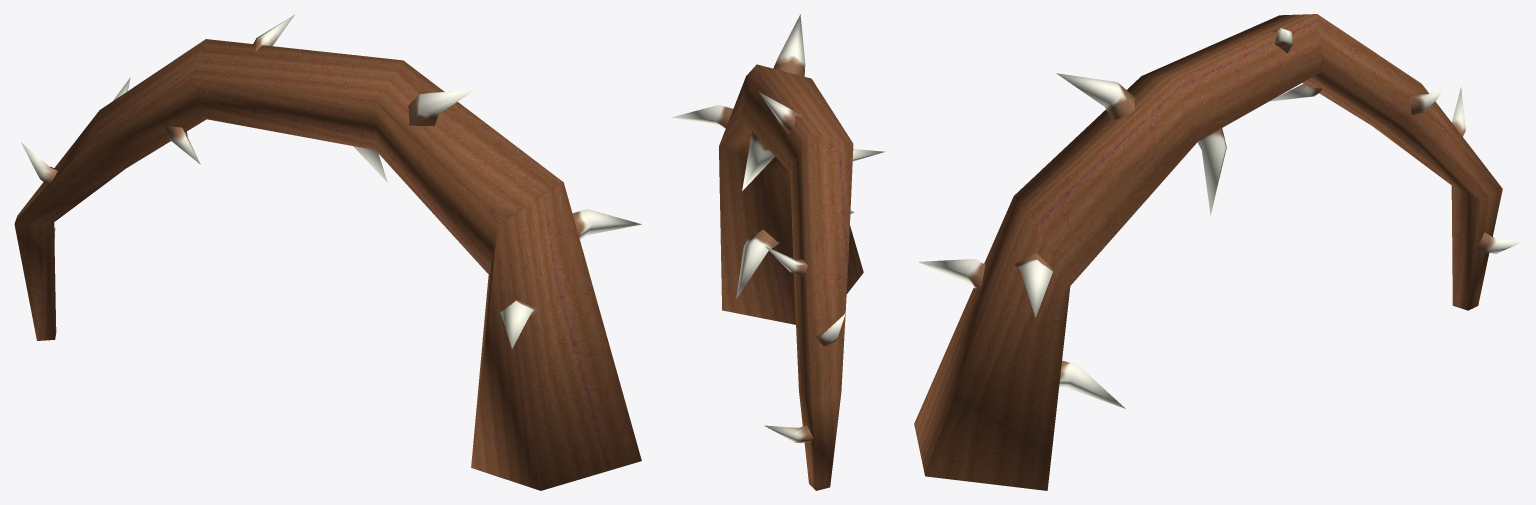
The model's file is Thorn_4.fbx.
3 renders of one model, left to right at view 1: azimuth 30°, elevation 25°; view 2: azimuth 150°, elevation 25°; view 3: azimuth 270°, elevation 25°, orthographic. The views are drawn at different scales.
Visible parts, largest first — view 1: Thorn4; view 2: Thorn4; view 3: Thorn4.
Part boxes in pixels (x1,y1,x2,y2): Thorn4: (14,14,641,490); Thorn4: (672,14,885,490); Thorn4: (914,14,1521,490).
Bounding box in the file's own units: 278 × 243 × 351.
